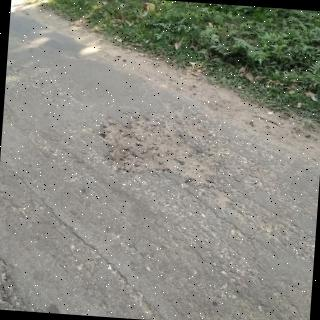pothole: (101, 109, 230, 211)
